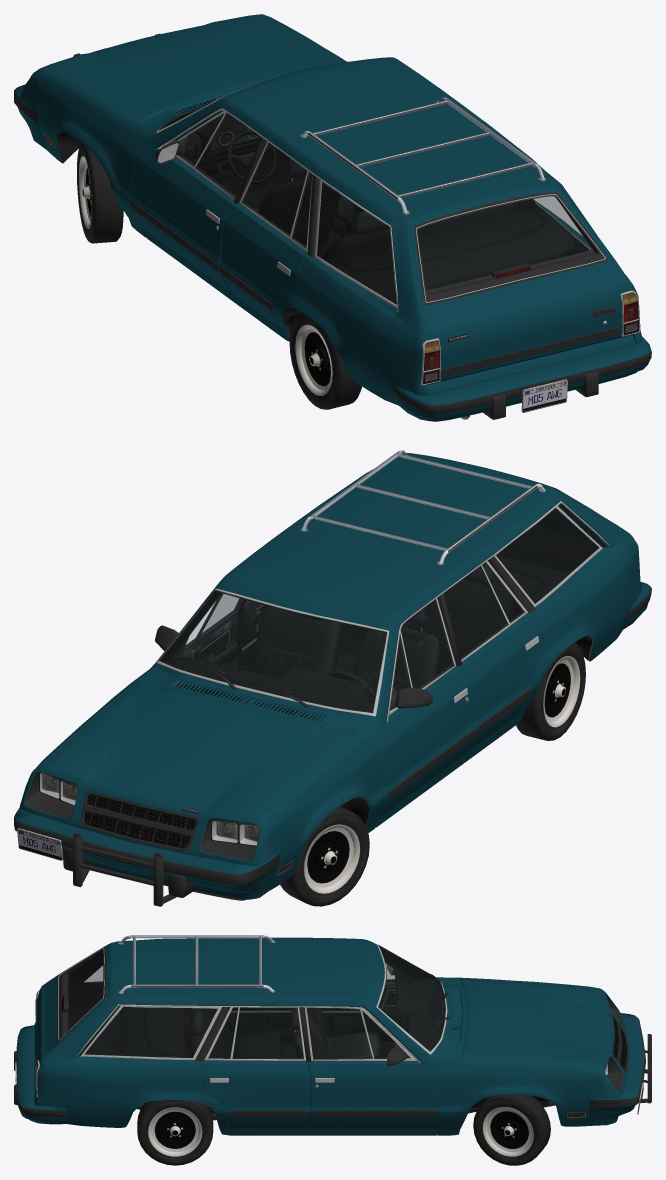
Rendered from car_wagon.glb.
The picture shows the model from 3 angles, top to bottom: view 1: azimuth 30°, elevation 25°; view 2: azimuth 150°, elevation 25°; view 3: azimuth 270°, elevation 25°; orthographic projection. The views are drawn at different scales.
Parts seen in each view (by area): view 1: hood_Body_0, glass_body_UCB_GLASS_CLEAN_0, Doorcard_RL_GEN4DR_INTERIOR_0, Taillights_UCB_BOTTOM_0, Wheel_RL_wp_tire_01_0, Wheel_RL_RM4_StragarSt8_rim_0, Glass_TS_rear_Riverside88_lights_0, Numberplate_rear_Numberplates_0; view 2: hood_Body_0, glass_body_UCB_GLASS_CLEAN_0, Taillights_UCB_BOTTOM_0, Doorcard_RL_GEN4DR_INTERIOR_0, Wheel_RL_RM4_StragarSt8_rim_0, Wheel_RL_wp_tire_01_0, Glass_TS_rear_Riverside88_lights_0, Numberplate_rear_Numberplates_0; view 3: hood_Body_0, glass_body_UCB_GLASS_CLEAN_0, Doorcard_RL_GEN4DR_INTERIOR_0, Taillights_UCB_BOTTOM_0, Wheel_RL_wp_tire_01_0, Wheel_RL_RM4_StragarSt8_rim_0.
Boxes of the visible parts, bbox=[...] form: hood_Body_0: bbox=[14, 14, 651, 421]; glass_body_UCB_GLASS_CLEAN_0: bbox=[162, 104, 592, 304]; Doorcard_RL_GEN4DR_INTERIOR_0: bbox=[162, 111, 589, 305]; Taillights_UCB_BOTTOM_0: bbox=[14, 33, 651, 419]; Wheel_RL_wp_tire_01_0: bbox=[77, 143, 361, 409]; Wheel_RL_RM4_StragarSt8_rim_0: bbox=[78, 156, 332, 395]; Glass_TS_rear_Riverside88_lights_0: bbox=[423, 292, 638, 381]; Numberplate_rear_Numberplates_0: bbox=[521, 379, 567, 412]; hood_Body_0: bbox=[14, 453, 651, 899]; glass_body_UCB_GLASS_CLEAN_0: bbox=[161, 508, 598, 711]; Taillights_UCB_BOTTOM_0: bbox=[14, 450, 651, 906]; Doorcard_RL_GEN4DR_INTERIOR_0: bbox=[160, 508, 601, 712]; Wheel_RL_RM4_StragarSt8_rim_0: bbox=[303, 656, 580, 893]; Wheel_RL_wp_tire_01_0: bbox=[280, 642, 585, 906]; Glass_TS_rear_Riverside88_lights_0: bbox=[42, 774, 259, 841]; Numberplate_rear_Numberplates_0: bbox=[17, 828, 62, 860]; hood_Body_0: bbox=[17, 937, 644, 1135]; glass_body_UCB_GLASS_CLEAN_0: bbox=[69, 947, 444, 1058]; Doorcard_RL_GEN4DR_INTERIOR_0: bbox=[69, 947, 444, 1060]; Taillights_UCB_BOTTOM_0: bbox=[14, 935, 651, 1126]; Wheel_RL_wp_tire_01_0: bbox=[137, 1094, 550, 1165]; Wheel_RL_RM4_StragarSt8_rim_0: bbox=[148, 1107, 533, 1156].
Size of the model in its own units: 1.87 by 1.42 by 5.05.
Materials: 9 (8 with a texture image).
